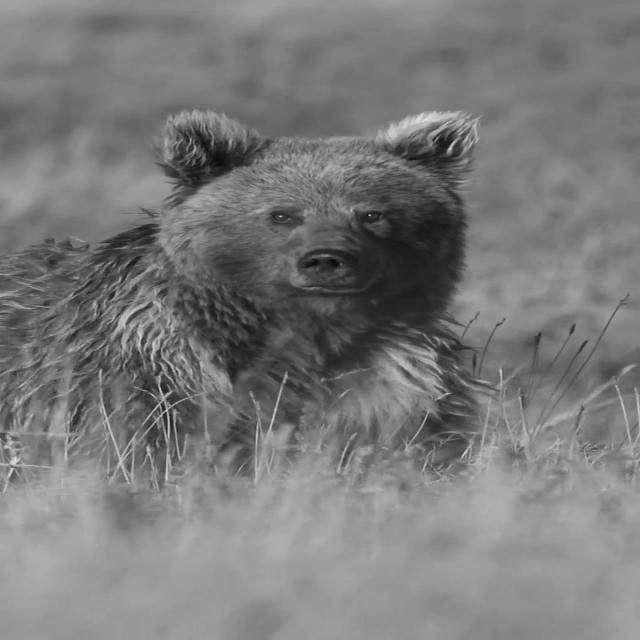Bear: (0, 108, 497, 498)
